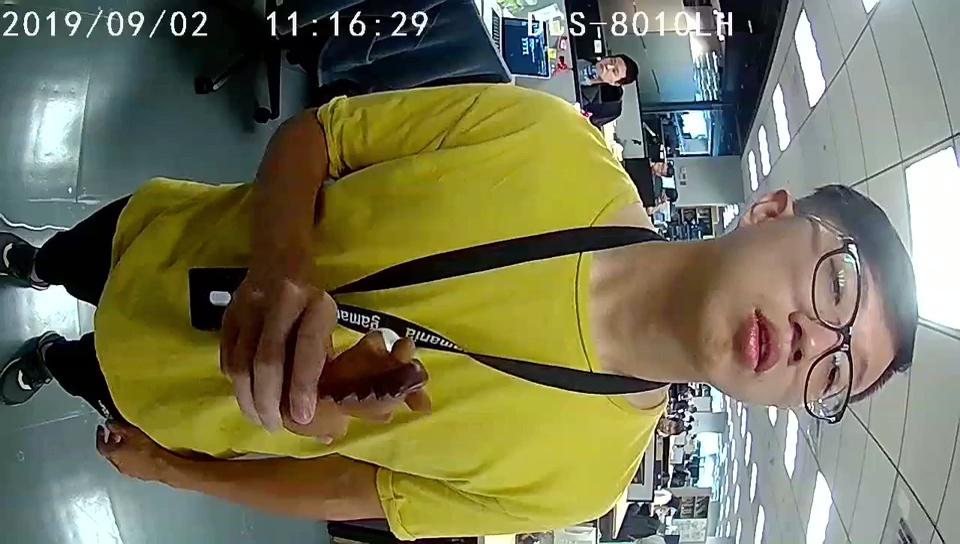horse: (322, 329, 434, 440)
